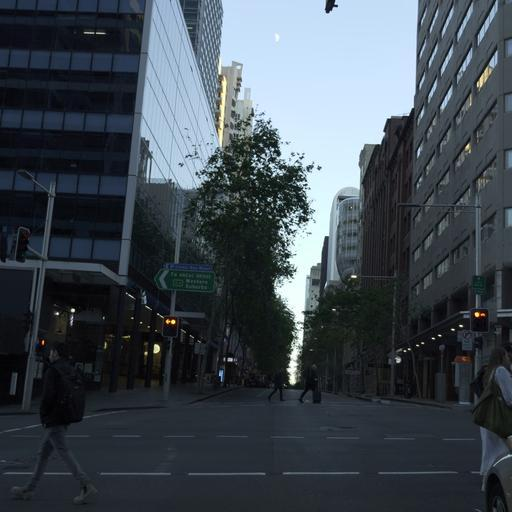Street light: (394, 199, 482, 400), (161, 187, 228, 400), (15, 167, 56, 411), (348, 271, 398, 395)
